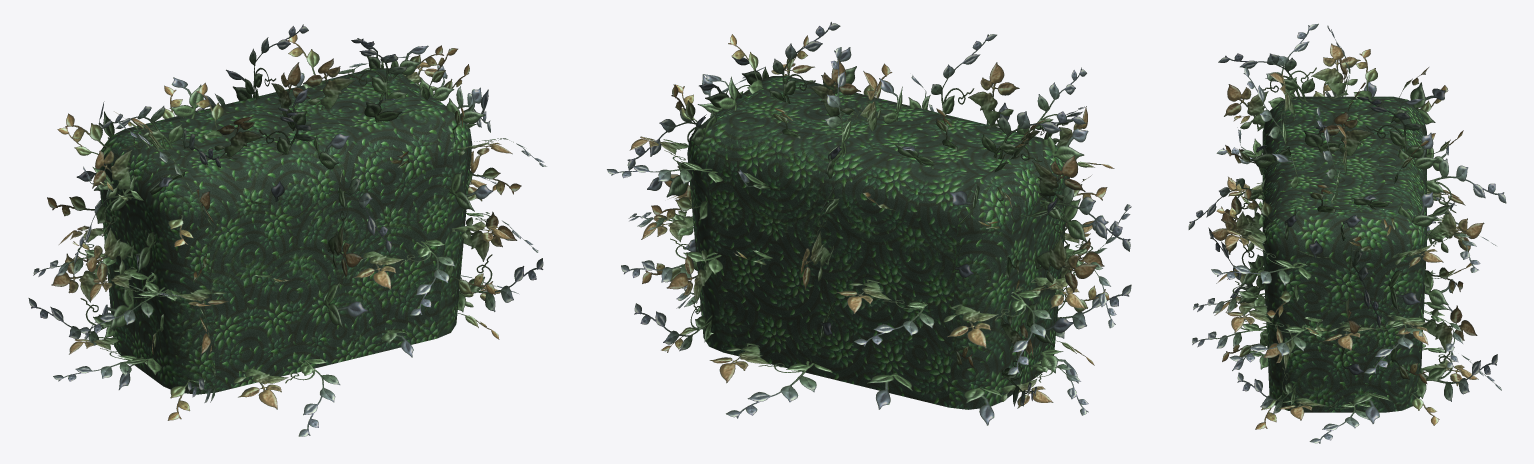
Rendered from Hedge_S.dae.
The picture shows the model from 3 angles, left to right: view 1: azimuth 30°, elevation 25°; view 2: azimuth 150°, elevation 25°; view 3: azimuth 270°, elevation 25°; orthographic projection. The views are drawn at different scales.
Visible parts, largest first — view 1: Hedge_S; view 2: Hedge_S; view 3: Hedge_S.
Part boxes in pixels (x1=…): Hedge_S: x1=28, y1=24, x2=546, y2=436; Hedge_S: x1=607, y1=22, x2=1131, y2=425; Hedge_S: x1=1188, y1=23, x2=1506, y2=443.
Size of what is drawn, in the model's own units: 596 by 401 by 408.
